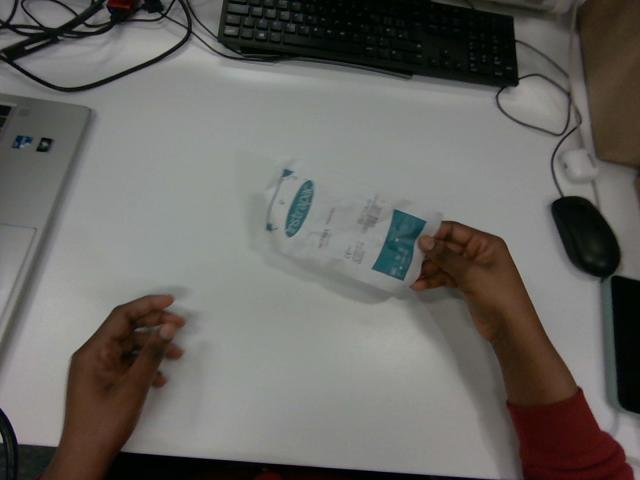gallipot: (266, 160, 441, 292)
